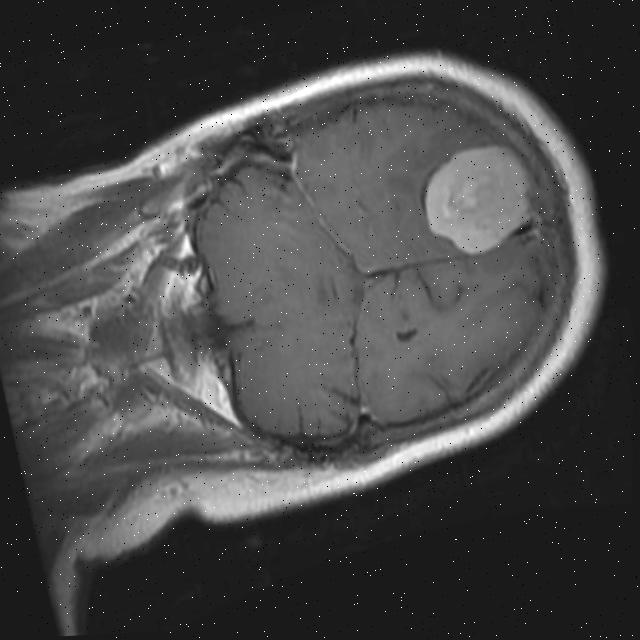Meningioma: (411, 130, 549, 270)
